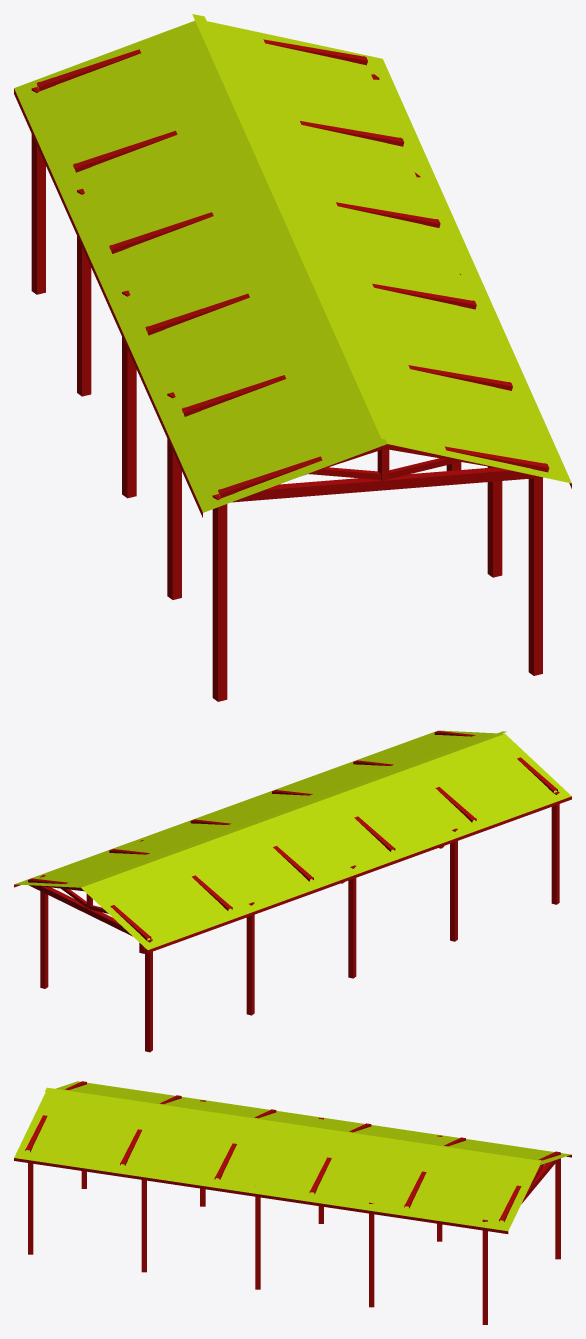
Rendered from svc_83.glb.
3 views of the same model, one above another, from view 1: azimuth 30°, elevation 25°; view 2: azimuth 150°, elevation 25°; view 3: azimuth 270°, elevation 25° (orthographic). The views are drawn at different scales.
Parts seen in each view (by area): view 1: svc_83; view 2: svc_83; view 3: svc_83.
Part boxes in pixels (<box>): svc_83: <box>14,14,571,701</box>; svc_83: <box>14,730,571,1052</box>; svc_83: <box>14,1081,571,1324</box>.
Size of the model in its own units: 13.06 by 5.33 by 20.53.
